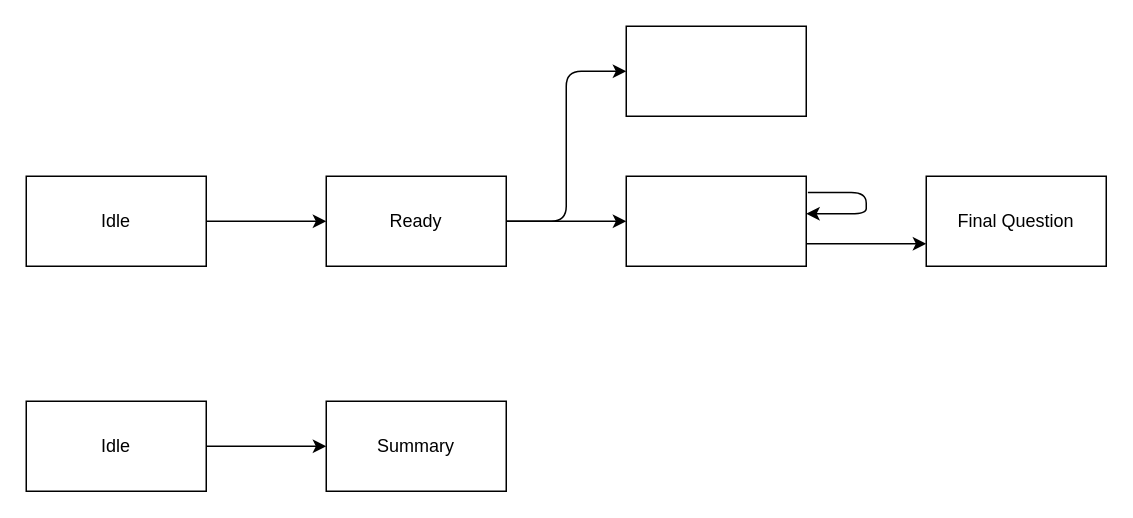
Image size: 1133x518. Some labels were removed from this diagram. Each missing label, with the box of its shape:
Not Working: (625, 25, 806, 116)
Questions: (625, 175, 806, 266)
